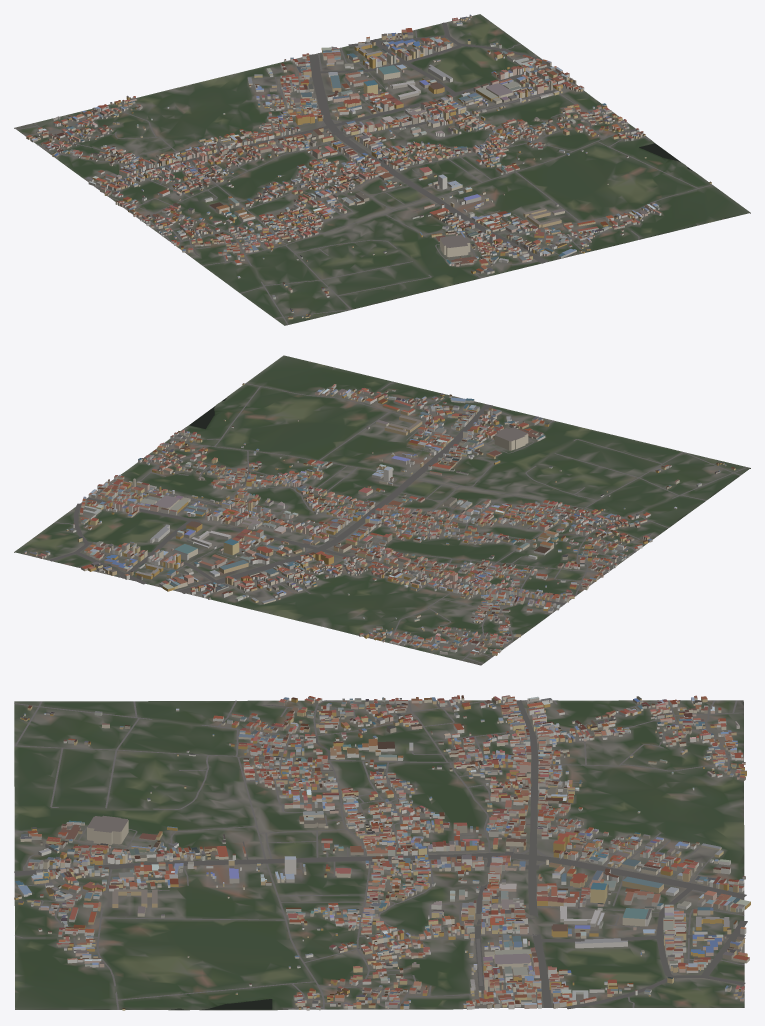
3 views of the same model, one above another, from view 1: azimuth 30°, elevation 25°; view 2: azimuth 150°, elevation 25°; view 3: azimuth 270°, elevation 25° (orthographic). The views are drawn at different scales.
Parts seen in each view (by area): view 1: ground, buildings, roads; view 2: ground, buildings, roads; view 3: ground, buildings, roads.
Part boxes in pixels (box(x1,y1,x2,y2)): ground: box(14, 14, 750, 325); buildings: box(26, 14, 711, 319); roads: box(16, 19, 712, 324); ground: box(14, 355, 750, 665); buildings: box(24, 383, 735, 655); roads: box(35, 382, 747, 663); ground: box(14, 700, 744, 1010); buildings: box(14, 695, 750, 1010); roads: box(14, 700, 747, 1009).
Bounding box in the file's own units: 1411 × 38.05 × 1416.
